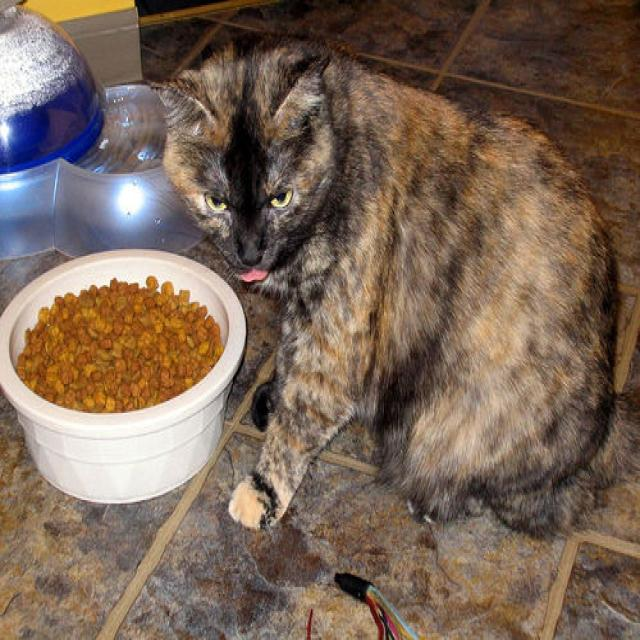left eye: (268, 184, 294, 210)
